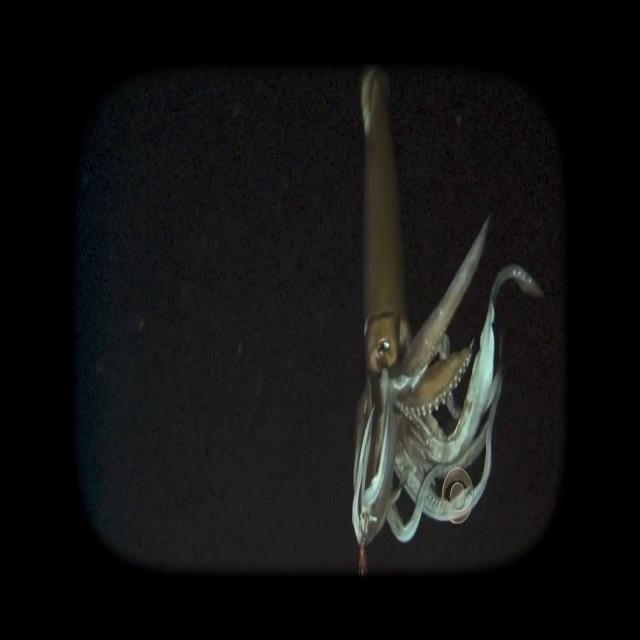squid: (352, 66, 544, 580)
